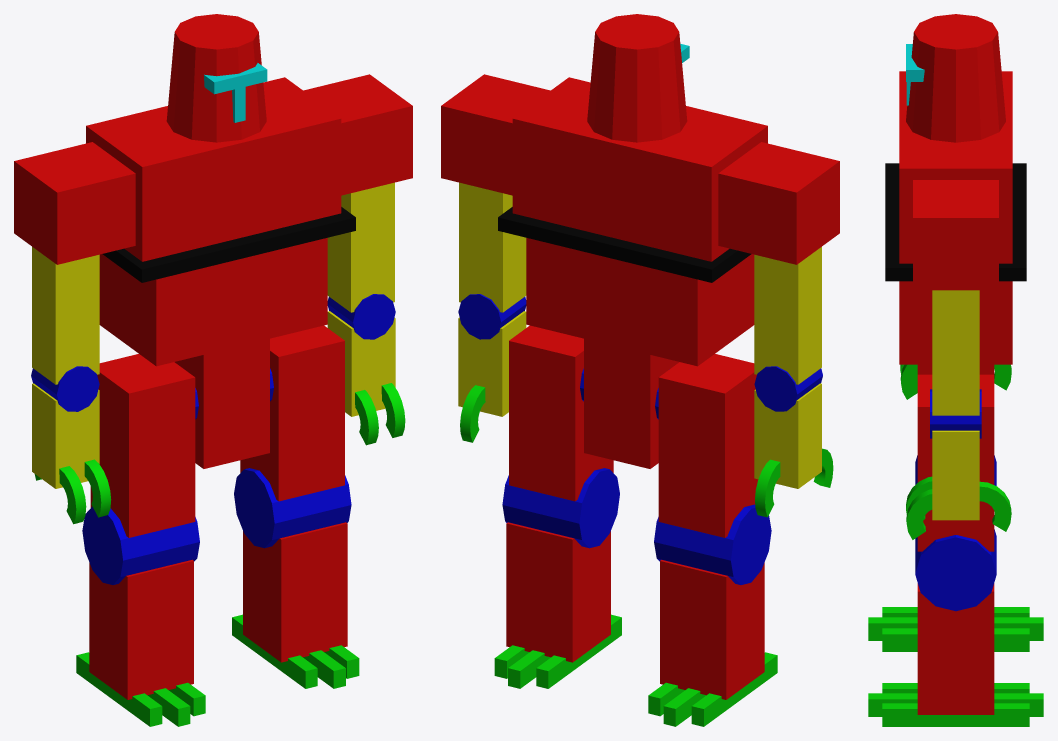
Rendered from melee_enemy.fbx.
3 views of the same model, side by side, from view 1: azimuth 30°, elevation 25°; view 2: azimuth 150°, elevation 25°; view 3: azimuth 270°, elevation 25° (orthographic).
Visible parts, largest first — view 1: Melee_Enemy; view 2: Melee_Enemy; view 3: Melee_Enemy.
Part boxes in pixels (left/top/right/bottom): Melee_Enemy: left=14, top=14, right=412, bottom=726; Melee_Enemy: left=441, top=14, right=839, bottom=726; Melee_Enemy: left=868, top=14, right=1043, bottom=726.
Bounding box in the file's own units: 2.72 × 4.7 × 1.16.
